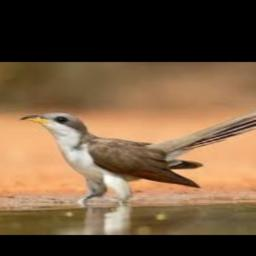Cuckoo: (20, 107, 256, 204)
